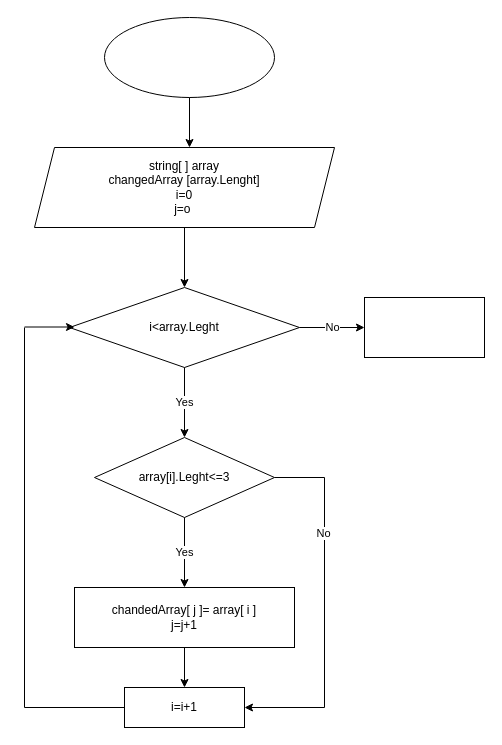
Some shapes in this 502 by 745 pixel diagram are drawn without their labels. Each missing label, with the centre of its shape:
"return changeArray" goes at point (424, 327).
"Start" goes at point (189, 57).
